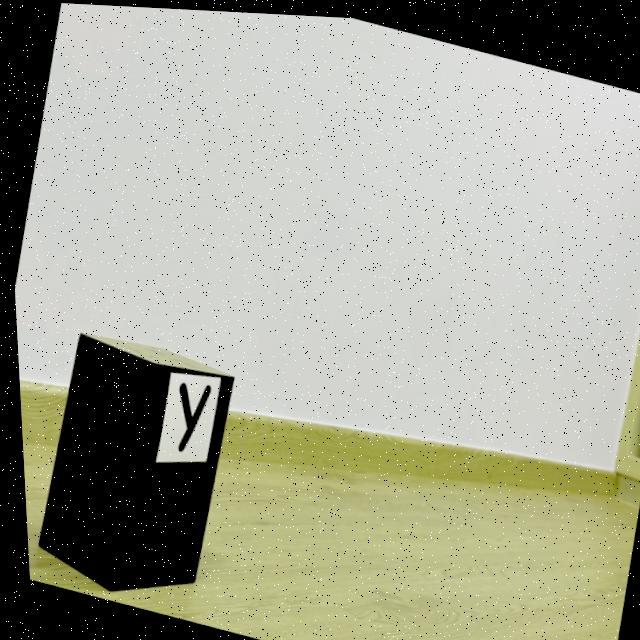Y: (172, 380, 207, 450)
